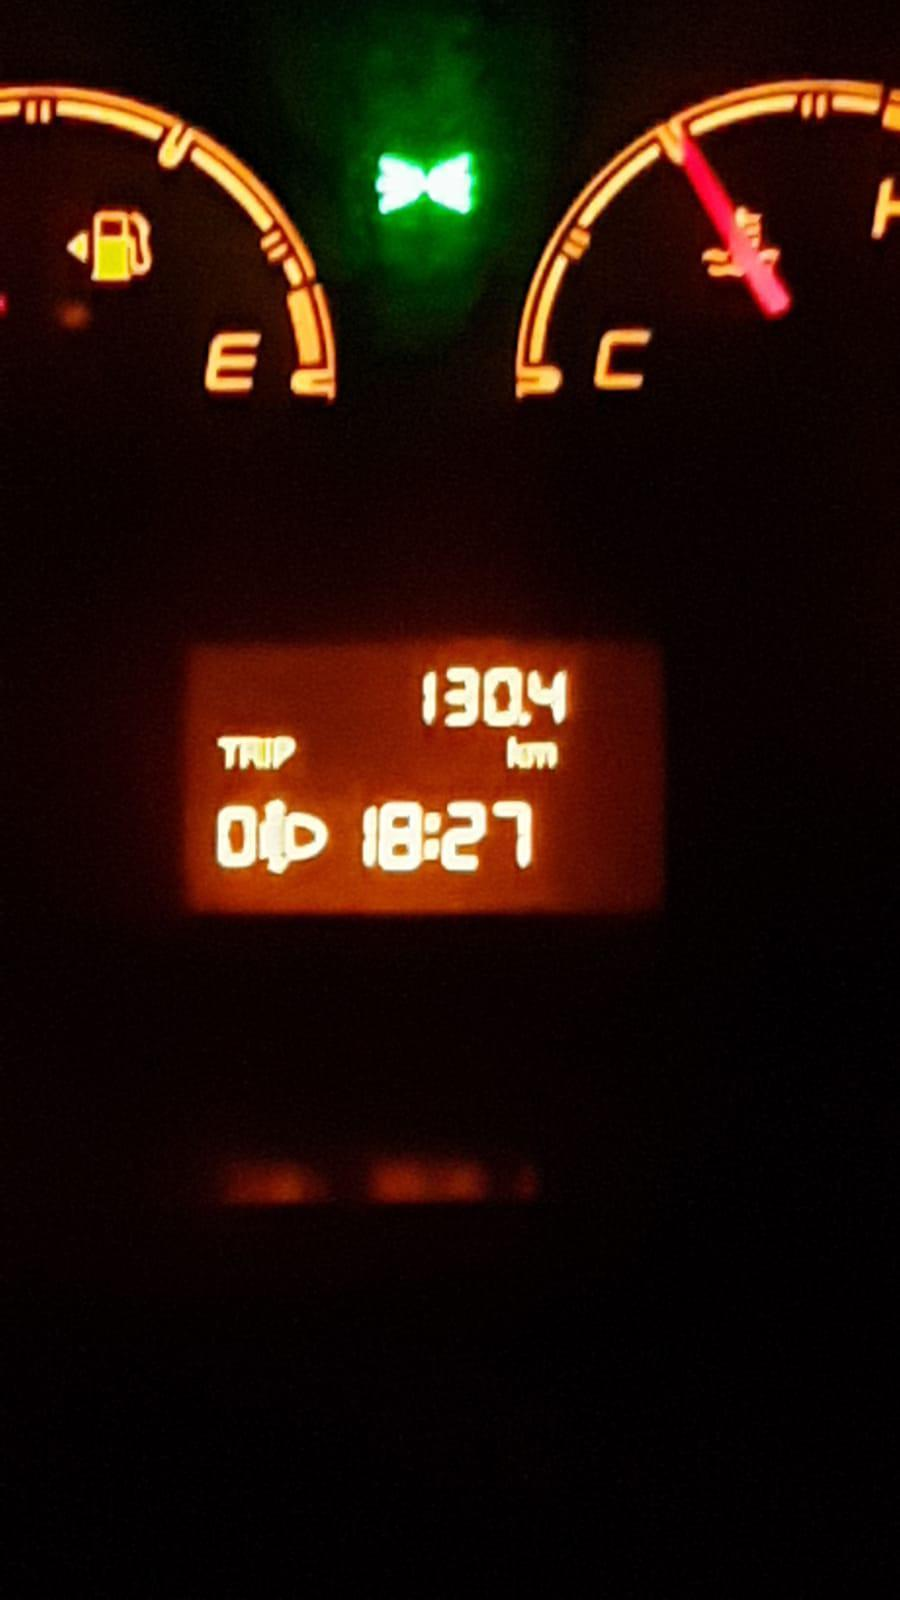,: (518, 711, 533, 727)
0: (214, 804, 258, 869), (482, 666, 523, 727)
1: (360, 803, 378, 871), (420, 669, 437, 726)
2: (440, 799, 488, 871)
3: (442, 665, 481, 727)
4: (525, 668, 568, 725)
7: (491, 799, 533, 869)
8: (378, 800, 423, 873)
X: (422, 810, 442, 862), (527, 740, 559, 769), (216, 734, 241, 771), (271, 734, 296, 771), (238, 735, 262, 770), (505, 735, 526, 769), (262, 735, 273, 771)
odometer: (175, 631, 673, 923)
